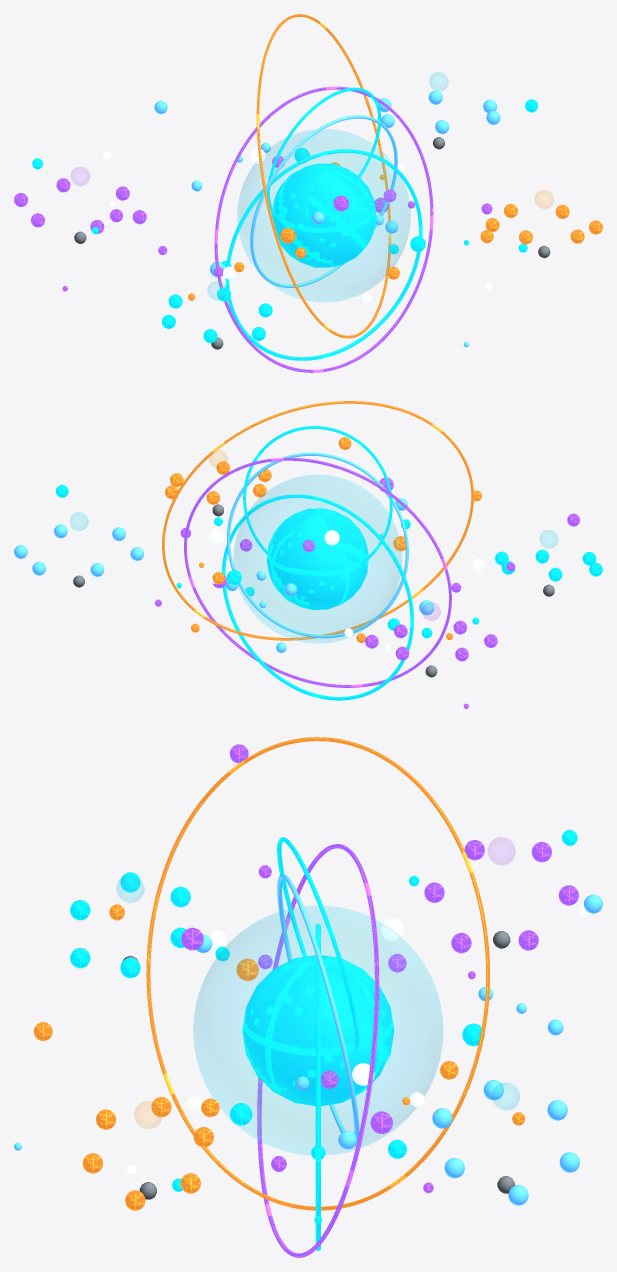
The model's file is data-galaxy-core-blender.glb.
3 renders of one model, top to bottom at view 1: azimuth 30°, elevation 25°; view 2: azimuth 150°, elevation 25°; view 3: azimuth 270°, elevation 25°, orthographic. The views are drawn at different scales.
Parts seen in each view (by area): view 1: central translucent data core shell, batched focal-core cyan neural emission, batched focal-core violet model-state emission, batched focal-core amber anomaly emission, batched focal-core deep blue inference emission, batched semantic-cluster cyan neural emission, batched semantic-cluster amber anomaly emission, batched semantic-cluster violet model-state emission, batched semantic-cluster deep blue inference emission, batched focal-core white hot data pin, batched semantic-cluster brushed dark titanium; view 2: central translucent data core shell, batched focal-core cyan neural emission, batched focal-core violet model-state emission, batched focal-core amber anomaly emission, batched focal-core deep blue inference emission, batched semantic-cluster violet model-state emission, batched semantic-cluster deep blue inference emission, batched semantic-cluster amber anomaly emission, batched semantic-cluster cyan neural emission, batched focal-core white hot data pin, batched semantic-cluster brushed dark titanium; view 3: central translucent data core shell, batched focal-core cyan neural emission, batched focal-core amber anomaly emission, batched focal-core violet model-state emission, batched focal-core deep blue inference emission, batched semantic-cluster deep blue inference emission, batched semantic-cluster amber anomaly emission, batched semantic-cluster violet model-state emission, batched semantic-cluster cyan neural emission, batched focal-core white hot data pin, batched semantic-cluster brushed dark titanium.
Part boxes in pixels (bbox=[...]): central translucent data core shell: bbox=[237, 129, 410, 301]; batched focal-core cyan neural emission: bbox=[221, 87, 425, 360]; batched focal-core violet model-state emission: bbox=[213, 86, 433, 372]; batched focal-core amber anomaly emission: bbox=[234, 14, 399, 338]; batched focal-core deep blue inference emission: bbox=[210, 115, 398, 287]; batched semantic-cluster cyan neural emission: bbox=[162, 99, 538, 343]; batched semantic-cluster amber anomaly emission: bbox=[480, 204, 602, 244]; batched semantic-cluster violet model-state emission: bbox=[14, 178, 146, 233]; batched semantic-cluster deep blue inference emission: bbox=[154, 90, 500, 134]; batched focal-core white hot data pin: bbox=[223, 148, 404, 302]; batched semantic-cluster brushed dark titanium: bbox=[74, 137, 550, 349]; central translucent data core shell: bbox=[233, 475, 402, 643]; batched focal-core cyan neural emission: bbox=[222, 426, 413, 700]; batched focal-core violet model-state emission: bbox=[184, 457, 460, 687]; batched focal-core amber anomaly emission: bbox=[162, 401, 473, 642]; batched focal-core deep blue inference emission: bbox=[226, 452, 434, 638]; batched semantic-cluster violet model-state emission: bbox=[365, 513, 579, 661]; batched semantic-cluster deep blue inference emission: bbox=[14, 524, 297, 596]; batched semantic-cluster amber anomaly emission: bbox=[165, 437, 351, 504]; batched semantic-cluster cyan neural emission: bbox=[56, 485, 602, 581]; batched focal-core white hot data pin: bbox=[209, 529, 484, 583]; batched semantic-cluster brushed dark titanium: bbox=[73, 504, 554, 677]; central translucent data core shell: bbox=[193, 906, 443, 1154]; batched focal-core cyan neural emission: bbox=[215, 837, 484, 1250]; batched focal-core amber anomaly emission: bbox=[146, 737, 489, 1210]; batched focal-core violet model-state emission: bbox=[181, 844, 406, 1257]; batched focal-core deep blue inference emission: bbox=[196, 874, 492, 1149]; batched semantic-cluster deep blue inference emission: bbox=[432, 894, 602, 1205]; batched semantic-cluster amber anomaly emission: bbox=[33, 1022, 213, 1210]; batched semantic-cluster violet model-state emission: bbox=[229, 744, 578, 953]; batched semantic-cluster cyan neural emission: bbox=[70, 872, 406, 1158]; batched focal-core white hot data pin: bbox=[187, 918, 424, 1110]; batched semantic-cluster brushed dark titanium: bbox=[122, 931, 514, 1199].
Size of the model in its own units: 3.59 by 2.3 by 2.63.
Materials: 9 (3 with a texture image).
